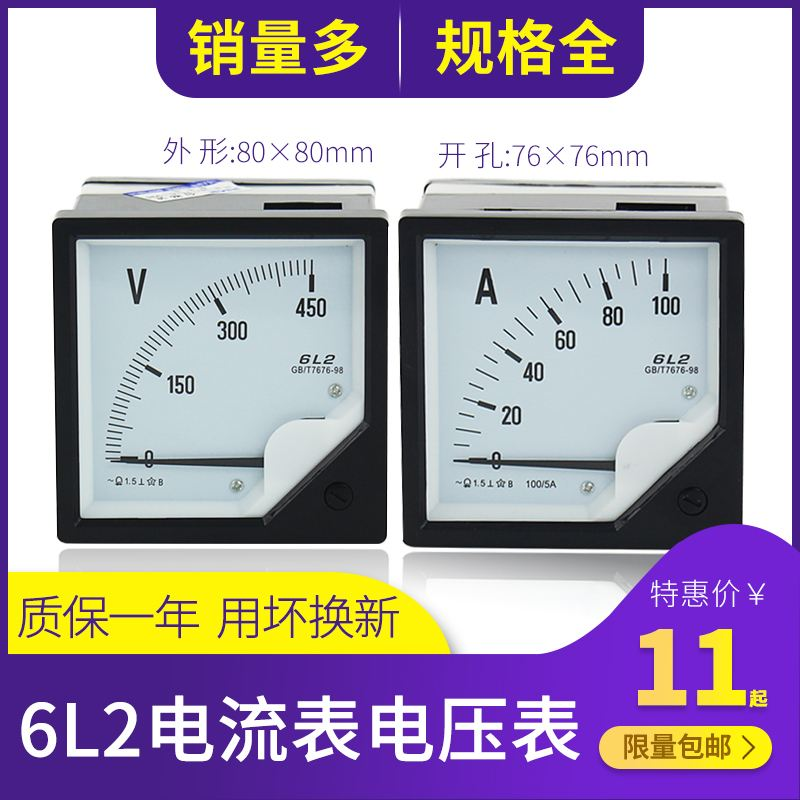pointer: (414, 231, 722, 523), (69, 237, 367, 522)
